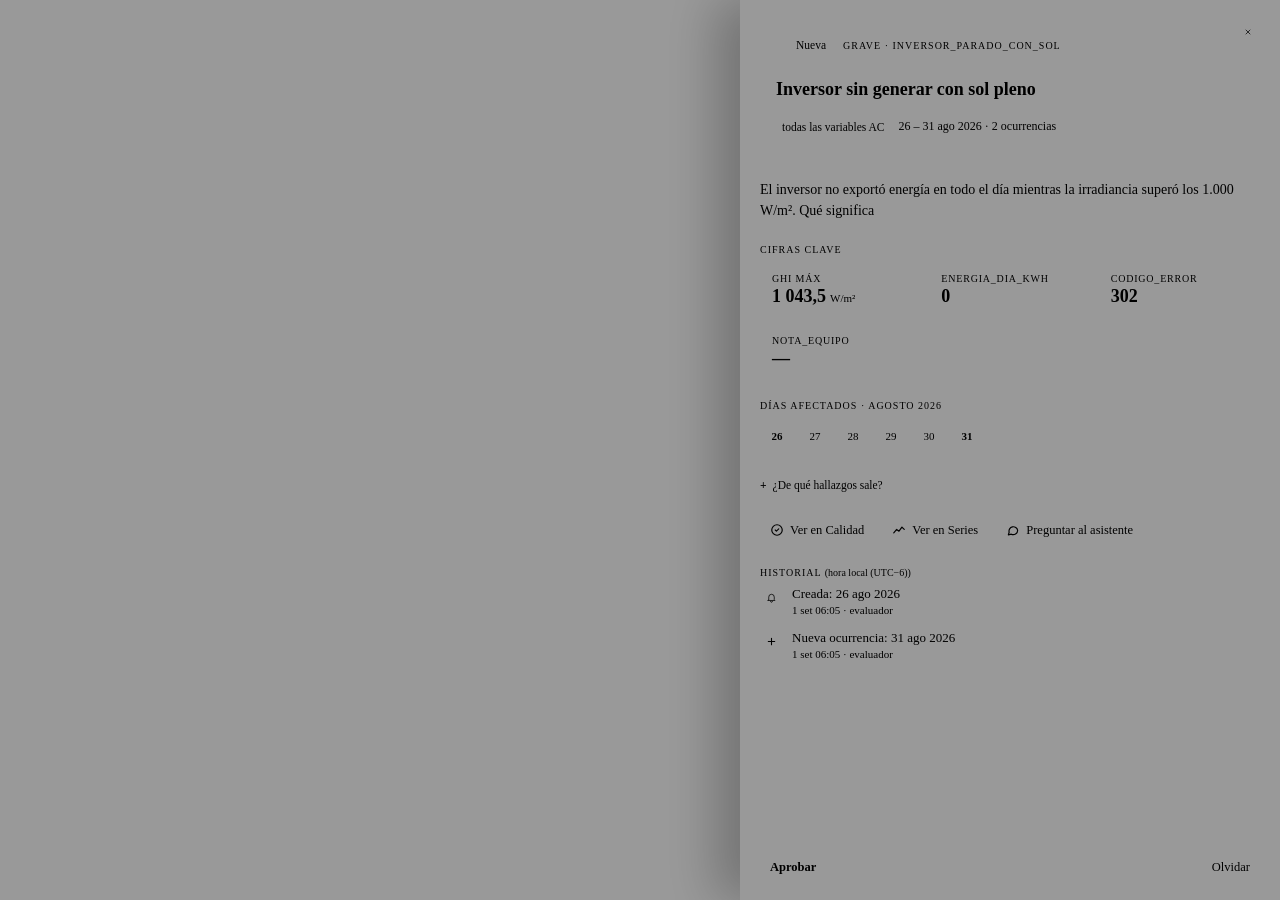
la ficha de una alerta › «Qué significa» despliega la explicación del tipo de alerta
Check: the text "suele ser una falla del equipo" is not shown
Click the button "Qué significa". click: click(837, 211)
box: [799,200,874,222]
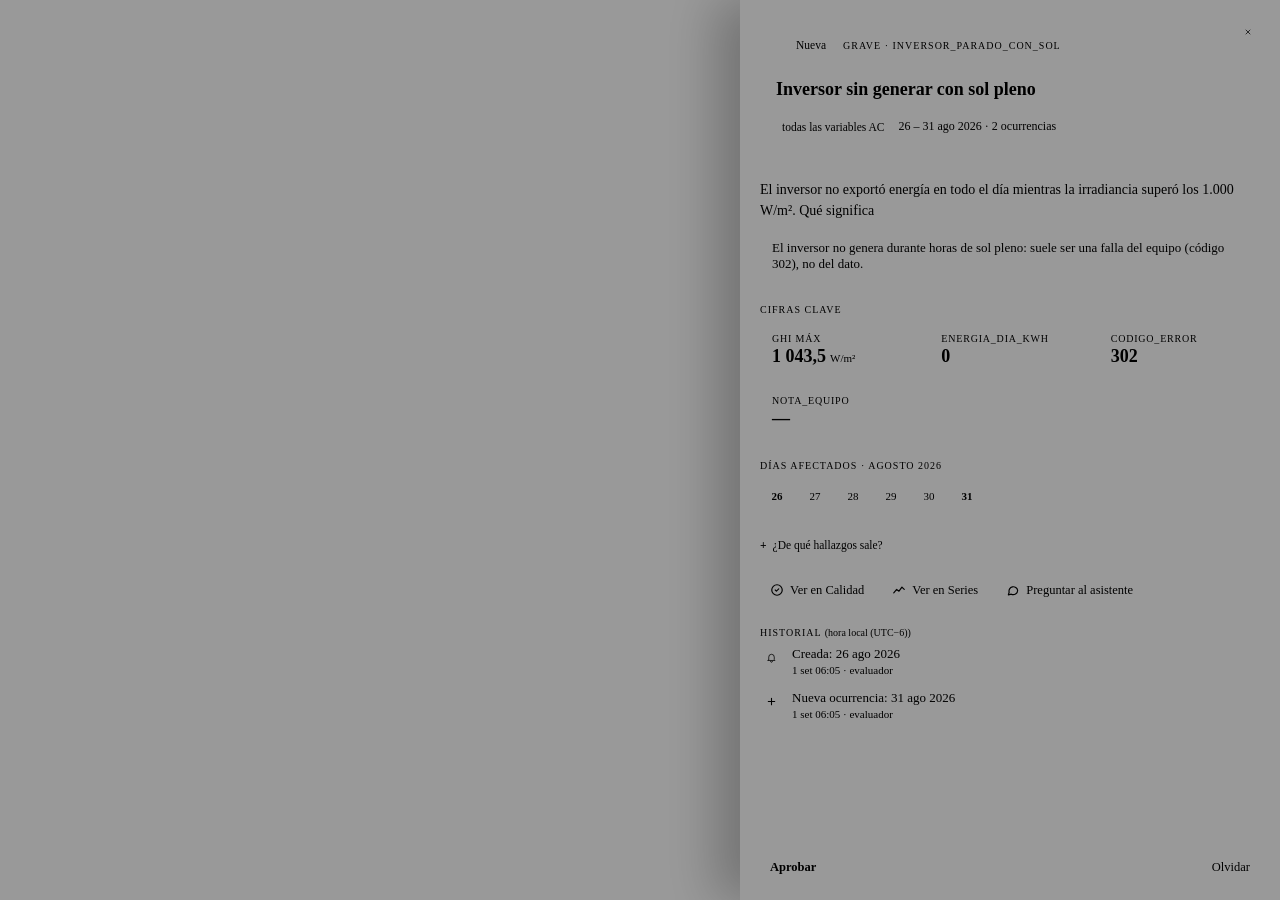
Check: the text "suele ser una falla del equipo" is shown, box [772,240,1224,271]
